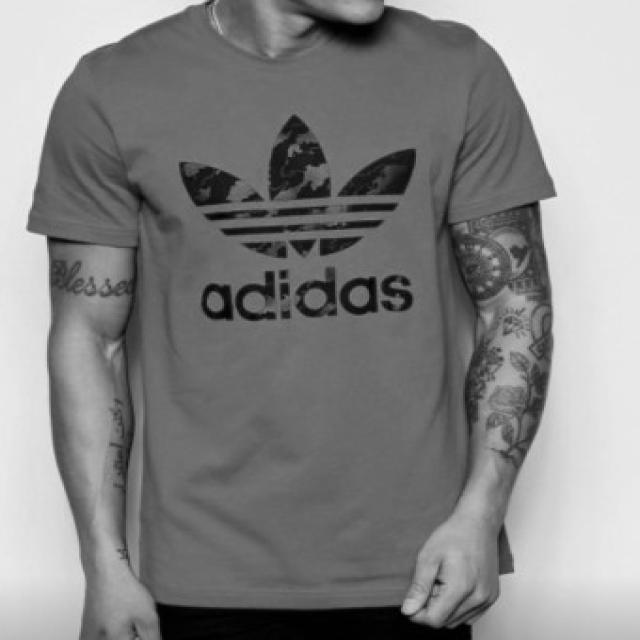Adidas: (160, 106, 440, 265)
